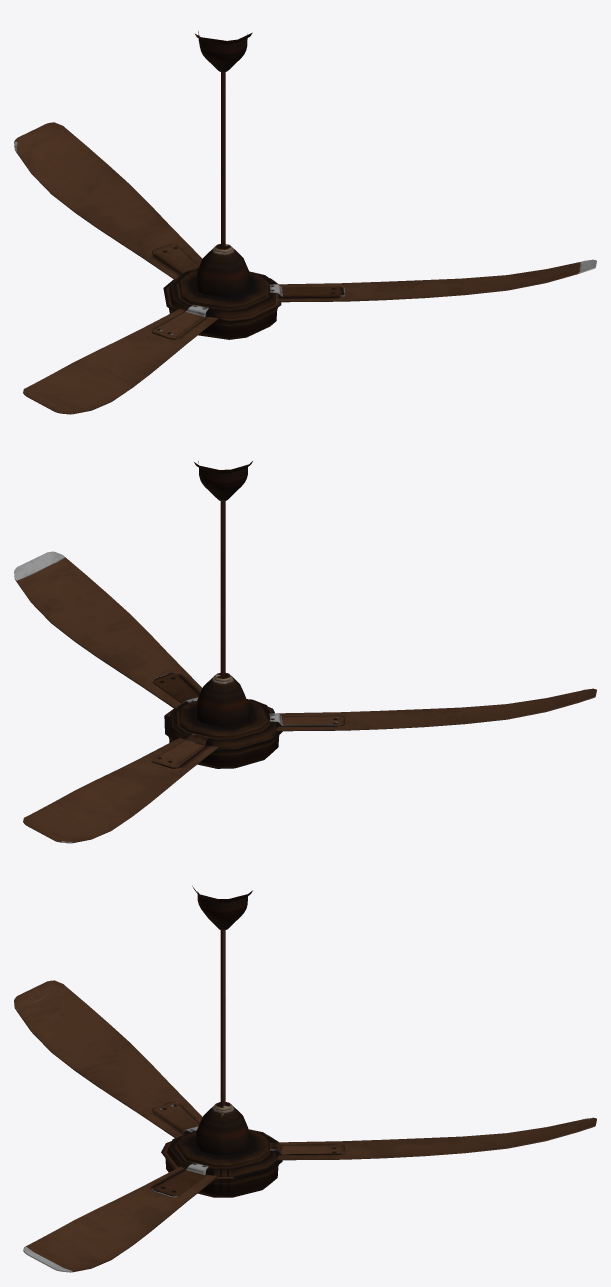
File: Cloner.fbx
3 renders of one model, top to bottom at view 1: azimuth 30°, elevation 25°; view 2: azimuth 150°, elevation 25°; view 3: azimuth 270°, elevation 25°, orthographic.
Parts seen in each view (by area): view 1: Cloner, Cloner.001; view 2: Cloner, Cloner.001; view 3: Cloner, Cloner.001.
Boxes of the visible parts, x1,y1,x2,y2 form: Cloner: [14, 122, 596, 414]; Cloner.001: [195, 31, 252, 297]; Cloner: [14, 551, 596, 843]; Cloner.001: [194, 461, 252, 726]; Cloner: [14, 980, 596, 1272]; Cloner.001: [192, 886, 252, 1155].
Size of the model in its own units: 3.35 by 1.64 by 2.94.
